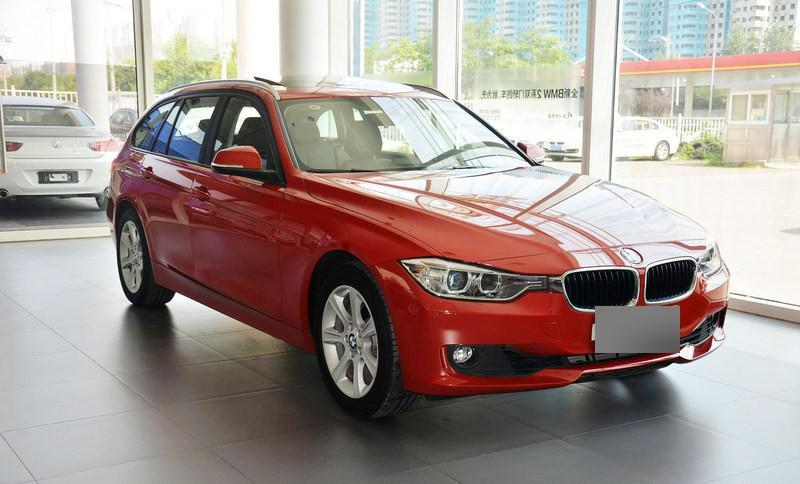Wagon: (105, 75, 733, 418)
